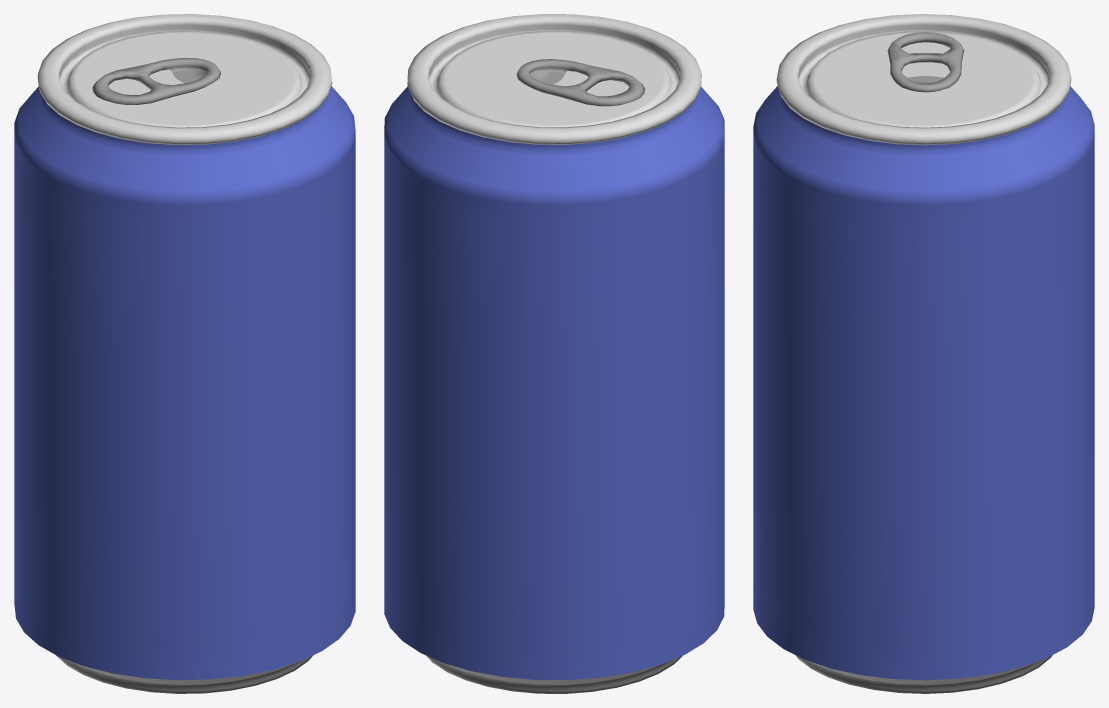
The model's file is can_blue.glb.
The picture shows the model from 3 angles, left to right: view 1: azimuth 30°, elevation 25°; view 2: azimuth 150°, elevation 25°; view 3: azimuth 270°, elevation 25°; orthographic projection.
Size of the model in its own units: 0.0639 by 0.1164 by 0.0639.
